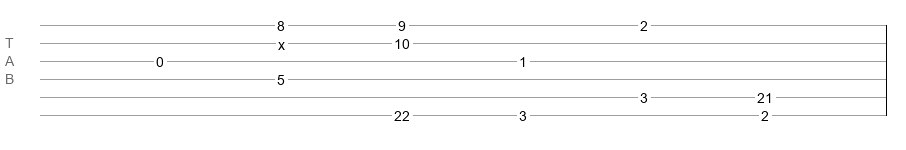0: (156, 54, 164, 64)
1: (519, 54, 527, 64)
10: (394, 36, 410, 46)
2: (640, 18, 648, 28), (761, 108, 769, 118)
21: (757, 90, 773, 100)
22: (394, 108, 410, 118)
3: (519, 108, 527, 118), (640, 90, 648, 100)
5: (277, 72, 285, 82)
8: (277, 18, 285, 28)
9: (398, 18, 406, 28)
x: (278, 37, 285, 45)
